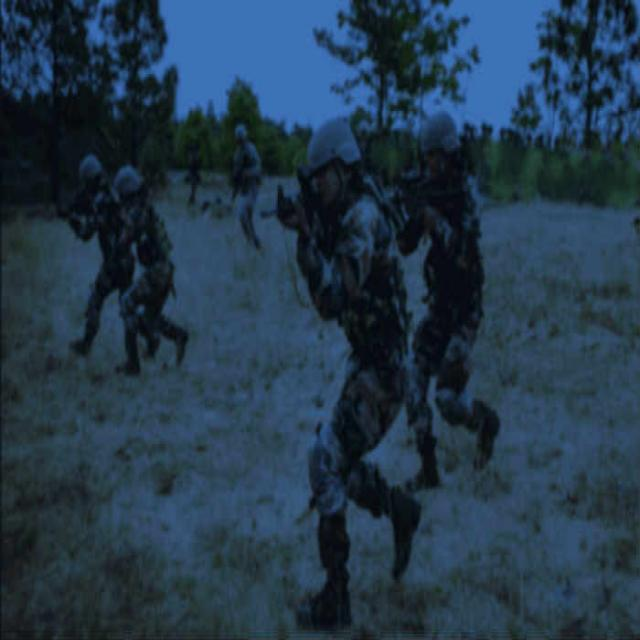Forest: (2, 1, 640, 640)
Militant: (278, 114, 428, 615), (385, 95, 516, 466), (104, 156, 206, 388), (56, 136, 127, 439), (220, 112, 277, 278)
